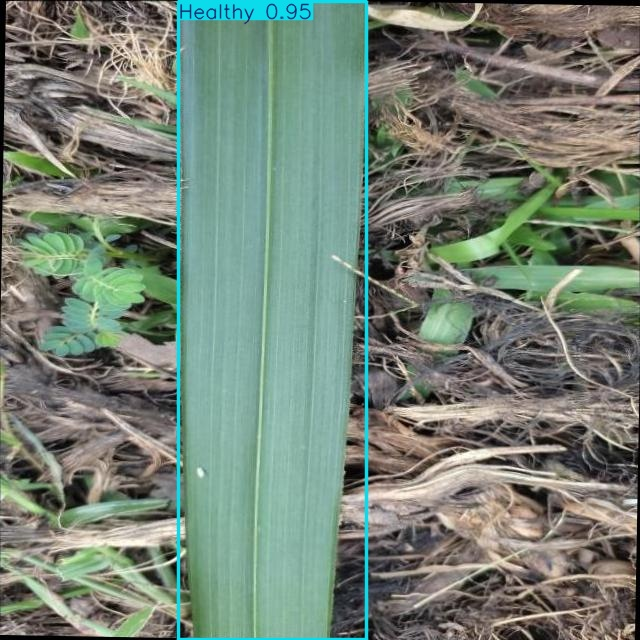Healthy: (179, 2, 367, 640)
